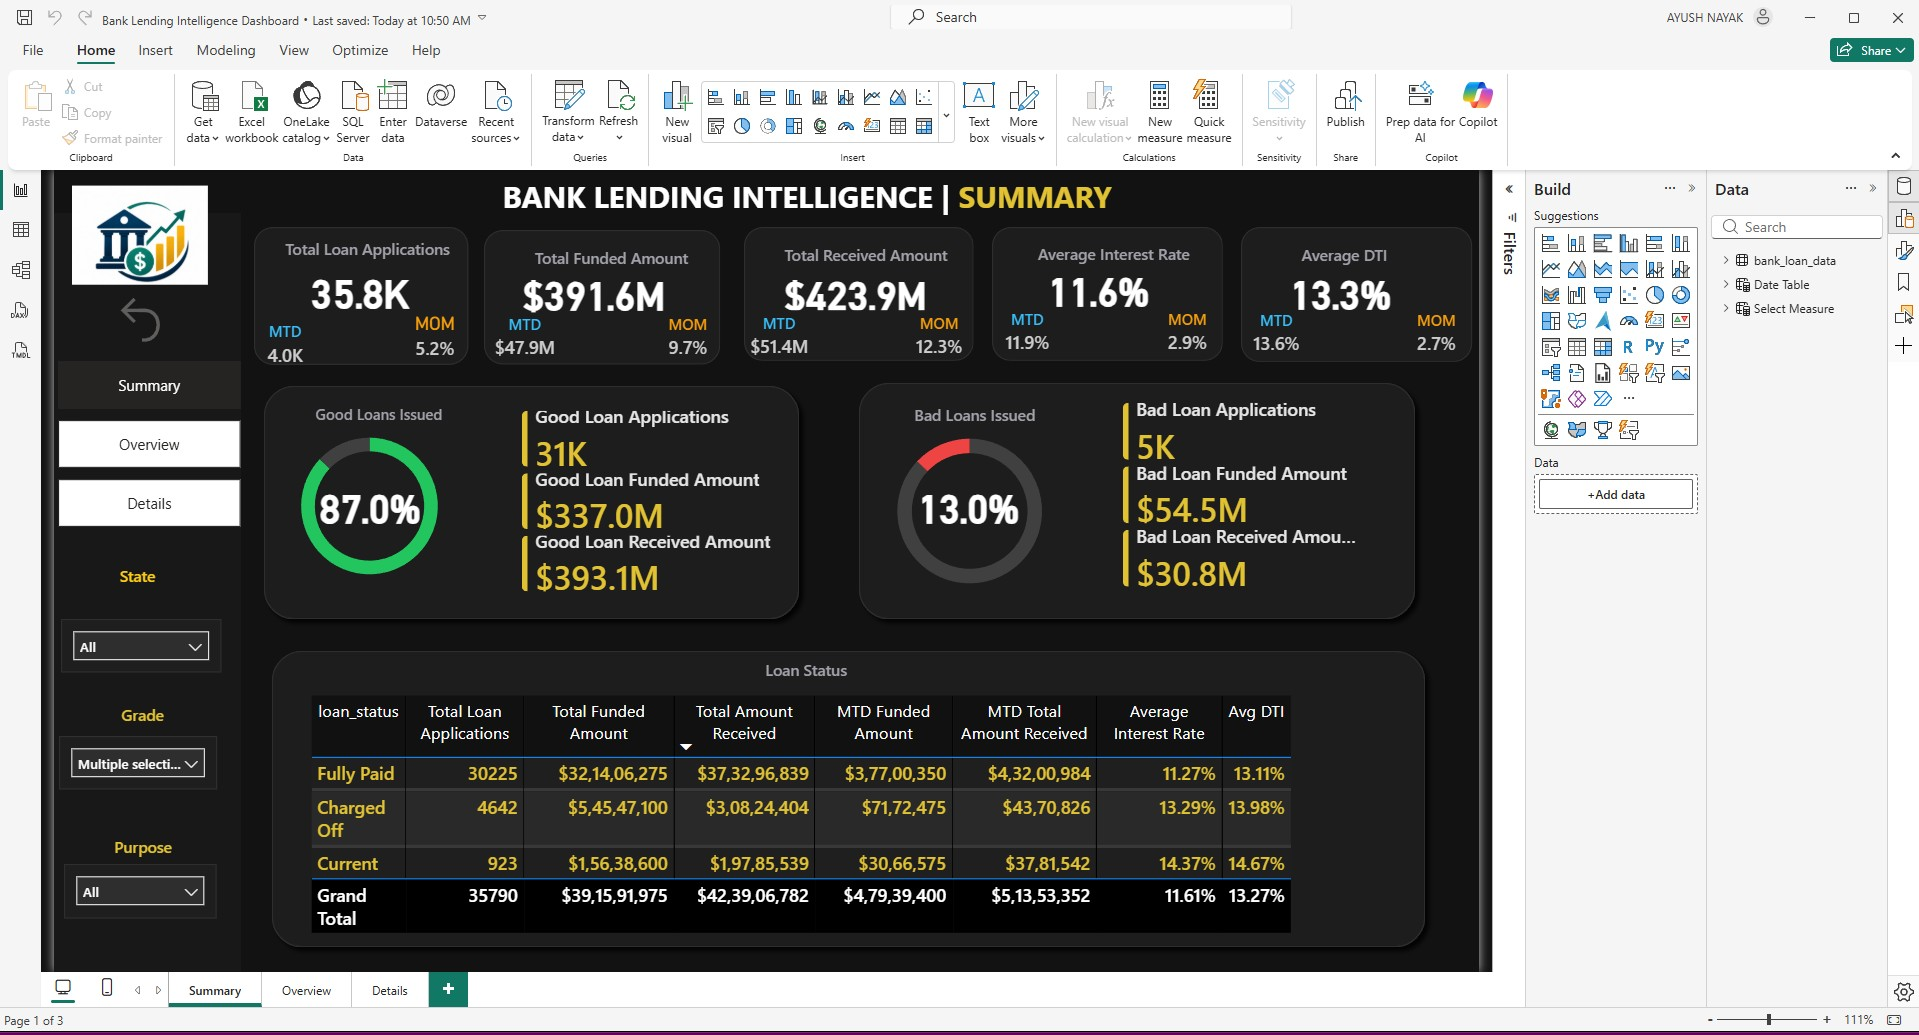

The dashboard page shown, as its layout file describes it:
{"tool":"powerbi","page":{"name":"Summary","canvas":[1280,720],"ordinal":0},"visuals":[{"type":"shape","box":[0,0,1273,38.6],"z":0},{"type":"shape","box":[179.6,51.2,192.5,123.7],"z":0,"group":"g1"},{"type":"shape","box":[1065.6,51.2,207.6,121.3],"z":0,"group":"g6"},{"type":"shape","box":[0,38.6,167.9,681.4],"z":1000},{"type":"shape","box":[619.6,51.2,206.2,120.3],"z":1000,"group":"g2"},{"type":"card","fields":{"Values":["bank_loan_data.Total Loan Applications"]},"box":[189.1,85.3,172.3,46.4],"z":1000,"group":"g1"},{"type":"shape","box":[386,53.9,212.1,120.8],"z":2000,"group":"g5"},{"type":"textbox","box":[197.8,56.4,167.9,28.7],"z":2000,"group":"g1"},{"type":"shape","box":[179.6,184.9,498.3,227.1],"z":2000},{"type":"textbox","box":[398.1,0,699.5,51.4],"z":3000},{"type":"card","title":"MTD","fields":{"Values":["bank_loan_data.MTD Loan Applications"]},"box":[178,135.7,59.5,48.4],"z":3000,"group":"g1"},{"type":"group","id":"g1","title":"Group 1","box":[178,51.2,194.1,132.9],"z":4000},{"type":"shape","box":[842.1,51.2,207.4,120.3],"z":4000,"group":"g3"},{"type":"card","title":"MOM","fields":{"Values":["bank_loan_data.MOM Loan Applications"]},"box":[313.1,127.2,59,47.8],"z":4000,"group":"g1"},{"type":"donutChart","fields":{"Category":["bank_loan_data.Good Vs Bad Loan"],"Y":["bank_loan_data.Total Loan Applications"]},"box":[190.3,220,185.8,163.4],"z":5000},{"type":"card","fields":{"Values":["bank_loan_data.Avg DTI"]},"box":[1071.1,86,167.9,46.4],"z":6000,"group":"g6"},{"type":"card","fields":{"Values":["bank_loan_data.Good Loan %"]},"box":[229.8,280.1,107.7,43.1],"z":6000},{"type":"card","fields":{"Values":["bank_loan_data.Total Amount Received"]},"box":[631.7,89,176.9,42.2],"z":7000,"group":"g2"},{"type":"shape","box":[713.7,182.2,517.1,229.8],"z":7000},{"type":"card","fields":{"Values":["bank_loan_data.Total Funded Amount"]},"box":[400.7,88.1,168.8,44.9],"z":8000,"group":"g5"},{"type":"textbox","box":[229.8,205.6,149.9,28.7],"z":8000},{"type":"card","fields":{"Values":["bank_loan_data.Average Interest Rate"]},"box":[852.9,84.5,169.5,45.1],"z":9000,"group":"g3"},{"type":"cardVisual","fields":{"Data":["bank_loan_data.Good Loan Applications","bank_loan_data.Good Loan Funded Amount","bank_loan_data.Good Loan Received Amount"]},"box":[403.1,199.3,274.7,198.4],"z":9000},{"type":"card","fields":{"Values":["bank_loan_data.Bad Loan %"]},"box":[767.6,275.6,106.8,51.2],"z":10000},{"type":"textbox","box":[1081.2,61.8,155.3,30.5],"z":11000,"group":"g6"},{"type":"donutChart","fields":{"Category":["bank_loan_data.Good Vs Bad Loan"],"Y":["bank_loan_data.Total Loan Applications"]},"box":[713.6,219.7,216.7,172.3],"z":11000},{"type":"textbox","box":[640.6,61.8,177.8,32.3],"z":12000,"group":"g2"},{"type":"textbox","box":[737.8,205.6,177.4,38.3],"z":12000},{"type":"textbox","box":[409.7,64.5,182.2,35.9],"z":13000,"group":"g5"},{"type":"cardVisual","fields":{"Data":["bank_loan_data.Bad Loan Applications","bank_loan_data.Bad Loan Funded Amount","bank_loan_data.Bad Loan Received Amount"]},"box":[942.6,192.1,255.9,199.3],"z":13000},{"type":"textbox","box":[867.2,61.1,168.3,53.4],"z":14000,"group":"g3"},{"type":"shape","box":[186.7,422.8,1053.1,283.7],"z":14000},{"type":"tableEx","fields":{"Values":["bank_loan_data.loan_status","bank_loan_data.Total Loan Applications","bank_loan_data.Total Funded Amount","bank_loan_data.Total Amount Received","bank_loan_data.MTD Funded Amount","bank_loan_data.MTD Total Amount Received","bank_loan_data.Average Interest Rate","bank_loan_data.Avg DTI"]},"box":[225.8,466.6,983.7,253],"z":15000},{"type":"card","title":"MTD","fields":{"Values":["bank_loan_data.MTD Avg DTI"]},"box":[1065.6,125.7,63.6,46.8],"z":16000,"group":"g6"},{"type":"textbox","box":[238.9,434.4,872.8,32.3],"z":16000},{"type":"card","title":"MTD","fields":{"Values":["bank_loan_data.MTD Total Amount Received"]},"box":[619.9,128.3,63.1,46.6],"z":17000,"group":"g2"},{"type":"slicer","fields":{"Values":["bank_loan_data.address_state"]},"box":[6.3,403.1,143.6,47.6],"z":17000},{"type":"card","title":"MTD","fields":{"Values":["bank_loan_data.MTD Funded Amount"]},"box":[390.7,129,64.4,46.1],"z":18000,"group":"g5"},{"type":"textbox","box":[9.9,350.1,130.2,33.2],"z":18000},{"type":"card","title":"MTD","fields":{"Values":["bank_loan_data.MTD Avg Int Rate"]},"box":[842.1,125.1,63.5,46.4],"z":19000,"group":"g3"},{"type":"slicer","fields":{"Values":["bank_loan_data.grade"]},"box":[4.5,508.1,141.8,48.5],"z":19000},{"type":"card","title":"MOM","fields":{"Values":["bank_loan_data.MOM Avg DTI"]},"box":[1209.6,125.7,63.6,46.8],"z":20000,"group":"g6"},{"type":"textbox","box":[9.1,474.7,141.1,33.3],"z":20000},{"type":"textbox","box":[9,593.4,141.8,31.4],"z":21000},{"type":"card","title":"MOM","fields":{"Values":["bank_loan_data.MOM Total Amount Received"]},"box":[762.8,128.3,63.1,46.6],"z":22000,"group":"g2"},{"type":"slicer","fields":{"Values":["bank_loan_data.purpose"]},"box":[9,623,137.4,49.4],"z":22000},{"type":"group","id":"g2","title":"Group 2","box":[619.6,51.2,206.3,123.6],"z":23000},{"type":"card","title":"MOM","fields":{"Values":["bank_loan_data.MOM Total Funded Amount"]},"box":[536.6,129,64.4,46.1],"z":23000,"group":"g5"},{"type":"group","id":"g3","title":"Group 3","box":[842.1,51.2,207.4,120.3],"z":24000},{"type":"card","title":"MOM","fields":{"Values":["bank_loan_data.MOM Avg Int Rate"]},"box":[986,125.1,63.5,46.4],"z":24000,"group":"g3"},{"type":"group","id":"g4","title":"Group 4","box":[1065.6,51.2,207.6,121.3],"z":25000},{"type":"group","id":"g5","title":"Group 6","box":[386,53.9,214.6,121.2],"z":26000},{"type":"pageNavigator","box":[3.5,171.6,164.6,151.6],"z":27000},{"type":"actionButton","box":[52.4,108.9,62.5,51.4],"z":28000},{"type":"image","box":[16.1,0,122,116.9],"z":29000},{"type":"group","id":"g6","title":"Group 5","box":[1065.6,51.2,207.6,121.3],"z":43004,"group":"g4"}]}

Visuals, with their boxes on the page's 1280x720 design canvas (x1, y1, x2, y2). These are canvas units, not pixel positions in the 1919x1035 screenshot, which may show the page scaled, cropped or inside an application window:
shape: BBox(0, 0, 1273, 39)
shape: BBox(180, 51, 372, 175)
shape: BBox(1066, 51, 1273, 172)
shape: BBox(0, 39, 168, 720)
shape: BBox(620, 51, 826, 172)
card - bank_loan_data.Total Loan Applications: BBox(189, 85, 361, 132)
shape: BBox(386, 54, 598, 175)
textbox: BBox(198, 56, 366, 85)
shape: BBox(180, 185, 678, 412)
textbox: BBox(398, 0, 1098, 51)
"MTD" card: BBox(178, 136, 238, 184)
"Group 1" group: BBox(178, 51, 372, 184)
shape: BBox(842, 51, 1050, 172)
"MOM" card: BBox(313, 127, 372, 175)
donutChart - bank_loan_data.Good Vs Bad Loan x bank_loan_data.Total Loan Applications: BBox(190, 220, 376, 383)
card - bank_loan_data.Avg DTI: BBox(1071, 86, 1239, 132)
card - bank_loan_data.Good Loan %: BBox(230, 280, 338, 323)
card - bank_loan_data.Total Amount Received: BBox(632, 89, 809, 131)
shape: BBox(714, 182, 1231, 412)
card - bank_loan_data.Total Funded Amount: BBox(401, 88, 570, 133)
textbox: BBox(230, 206, 380, 234)
card - bank_loan_data.Average Interest Rate: BBox(853, 84, 1022, 130)
cardVisual - bank_loan_data.Good Loan Applications x bank_loan_data.Good Loan Funded Amount: BBox(403, 199, 678, 398)
card - bank_loan_data.Bad Loan %: BBox(768, 276, 874, 327)
textbox: BBox(1081, 62, 1236, 92)
donutChart - bank_loan_data.Good Vs Bad Loan x bank_loan_data.Total Loan Applications: BBox(714, 220, 930, 392)
textbox: BBox(641, 62, 818, 94)
textbox: BBox(738, 206, 915, 244)
textbox: BBox(410, 64, 592, 100)
cardVisual - bank_loan_data.Bad Loan Applications x bank_loan_data.Bad Loan Funded Amount: BBox(943, 192, 1198, 391)
textbox: BBox(867, 61, 1036, 114)
shape: BBox(187, 423, 1240, 706)
tableEx - bank_loan_data.loan_status x bank_loan_data.Total Loan Applications: BBox(226, 467, 1210, 720)
"MTD" card: BBox(1066, 126, 1129, 172)
textbox: BBox(239, 434, 1112, 467)
"MTD" card: BBox(620, 128, 683, 175)
slicer - bank_loan_data.address_state: BBox(6, 403, 150, 451)
"MTD" card: BBox(391, 129, 455, 175)
textbox: BBox(10, 350, 140, 383)
"MTD" card: BBox(842, 125, 906, 172)
slicer - bank_loan_data.grade: BBox(4, 508, 146, 557)
"MOM" card: BBox(1210, 126, 1273, 172)
textbox: BBox(9, 475, 150, 508)
textbox: BBox(9, 593, 151, 625)
"MOM" card: BBox(763, 128, 826, 175)
slicer - bank_loan_data.purpose: BBox(9, 623, 146, 672)
"Group 2" group: BBox(620, 51, 826, 175)
"MOM" card: BBox(537, 129, 601, 175)
"Group 3" group: BBox(842, 51, 1050, 172)
"MOM" card: BBox(986, 125, 1050, 172)
"Group 4" group: BBox(1066, 51, 1273, 172)
"Group 6" group: BBox(386, 54, 601, 175)
pageNavigator: BBox(4, 172, 168, 323)
actionButton: BBox(52, 109, 115, 160)
image: BBox(16, 0, 138, 117)
"Group 5" group: BBox(1066, 51, 1273, 172)
